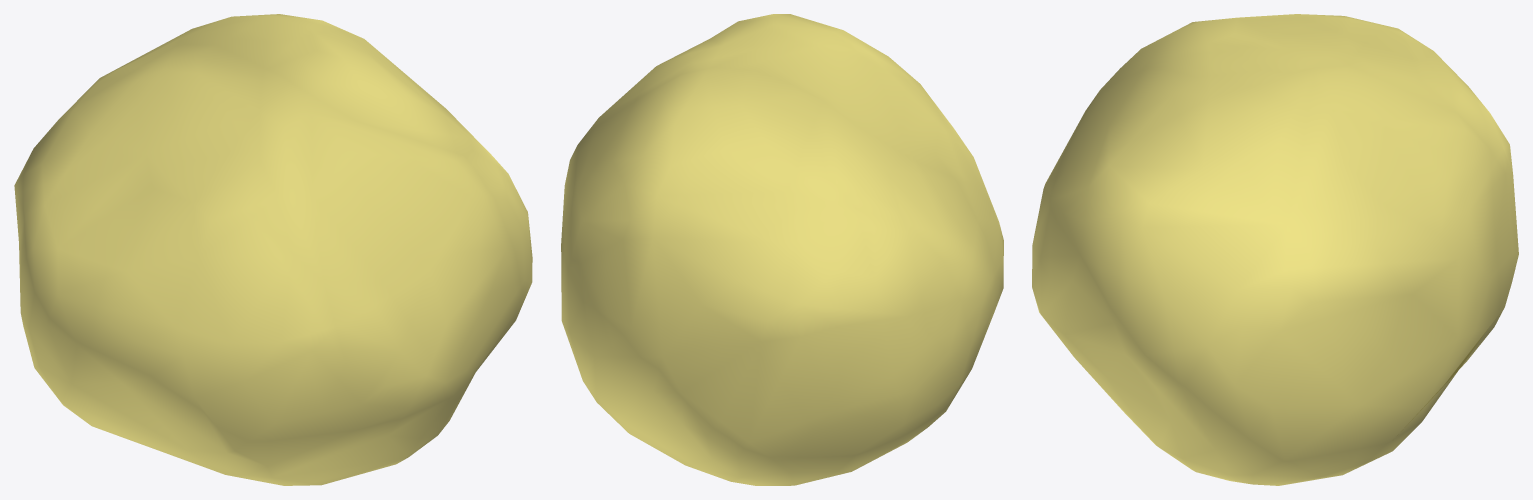
Rendered from Lizozom1.fbx.
3 views of the same model, side by side, from view 1: azimuth 30°, elevation 25°; view 2: azimuth 150°, elevation 25°; view 3: azimuth 270°, elevation 25° (orthographic). The views are drawn at different scales.
Parts seen in each view (by area): view 1: Lizozom2; view 2: Lizozom2; view 3: Lizozom2.
Part boxes in pixels (x1=…): Lizozom2: x1=14, y1=14, x2=532, y2=485; Lizozom2: x1=561, y1=14, x2=1003, y2=485; Lizozom2: x1=1032, y1=14, x2=1518, y2=485.
Size of the model in its own units: 39.56 by 37.07 by 37.83.
